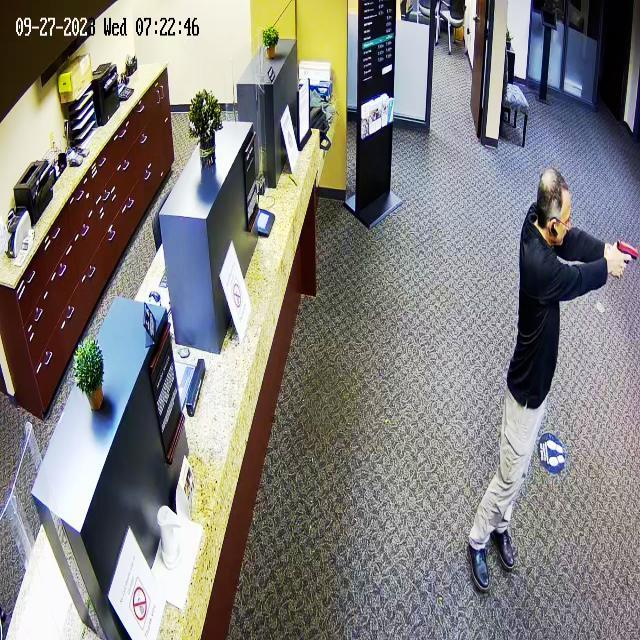Gun: (610, 233, 640, 295)
